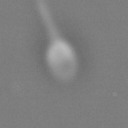normal: (34, 2, 58, 37)
